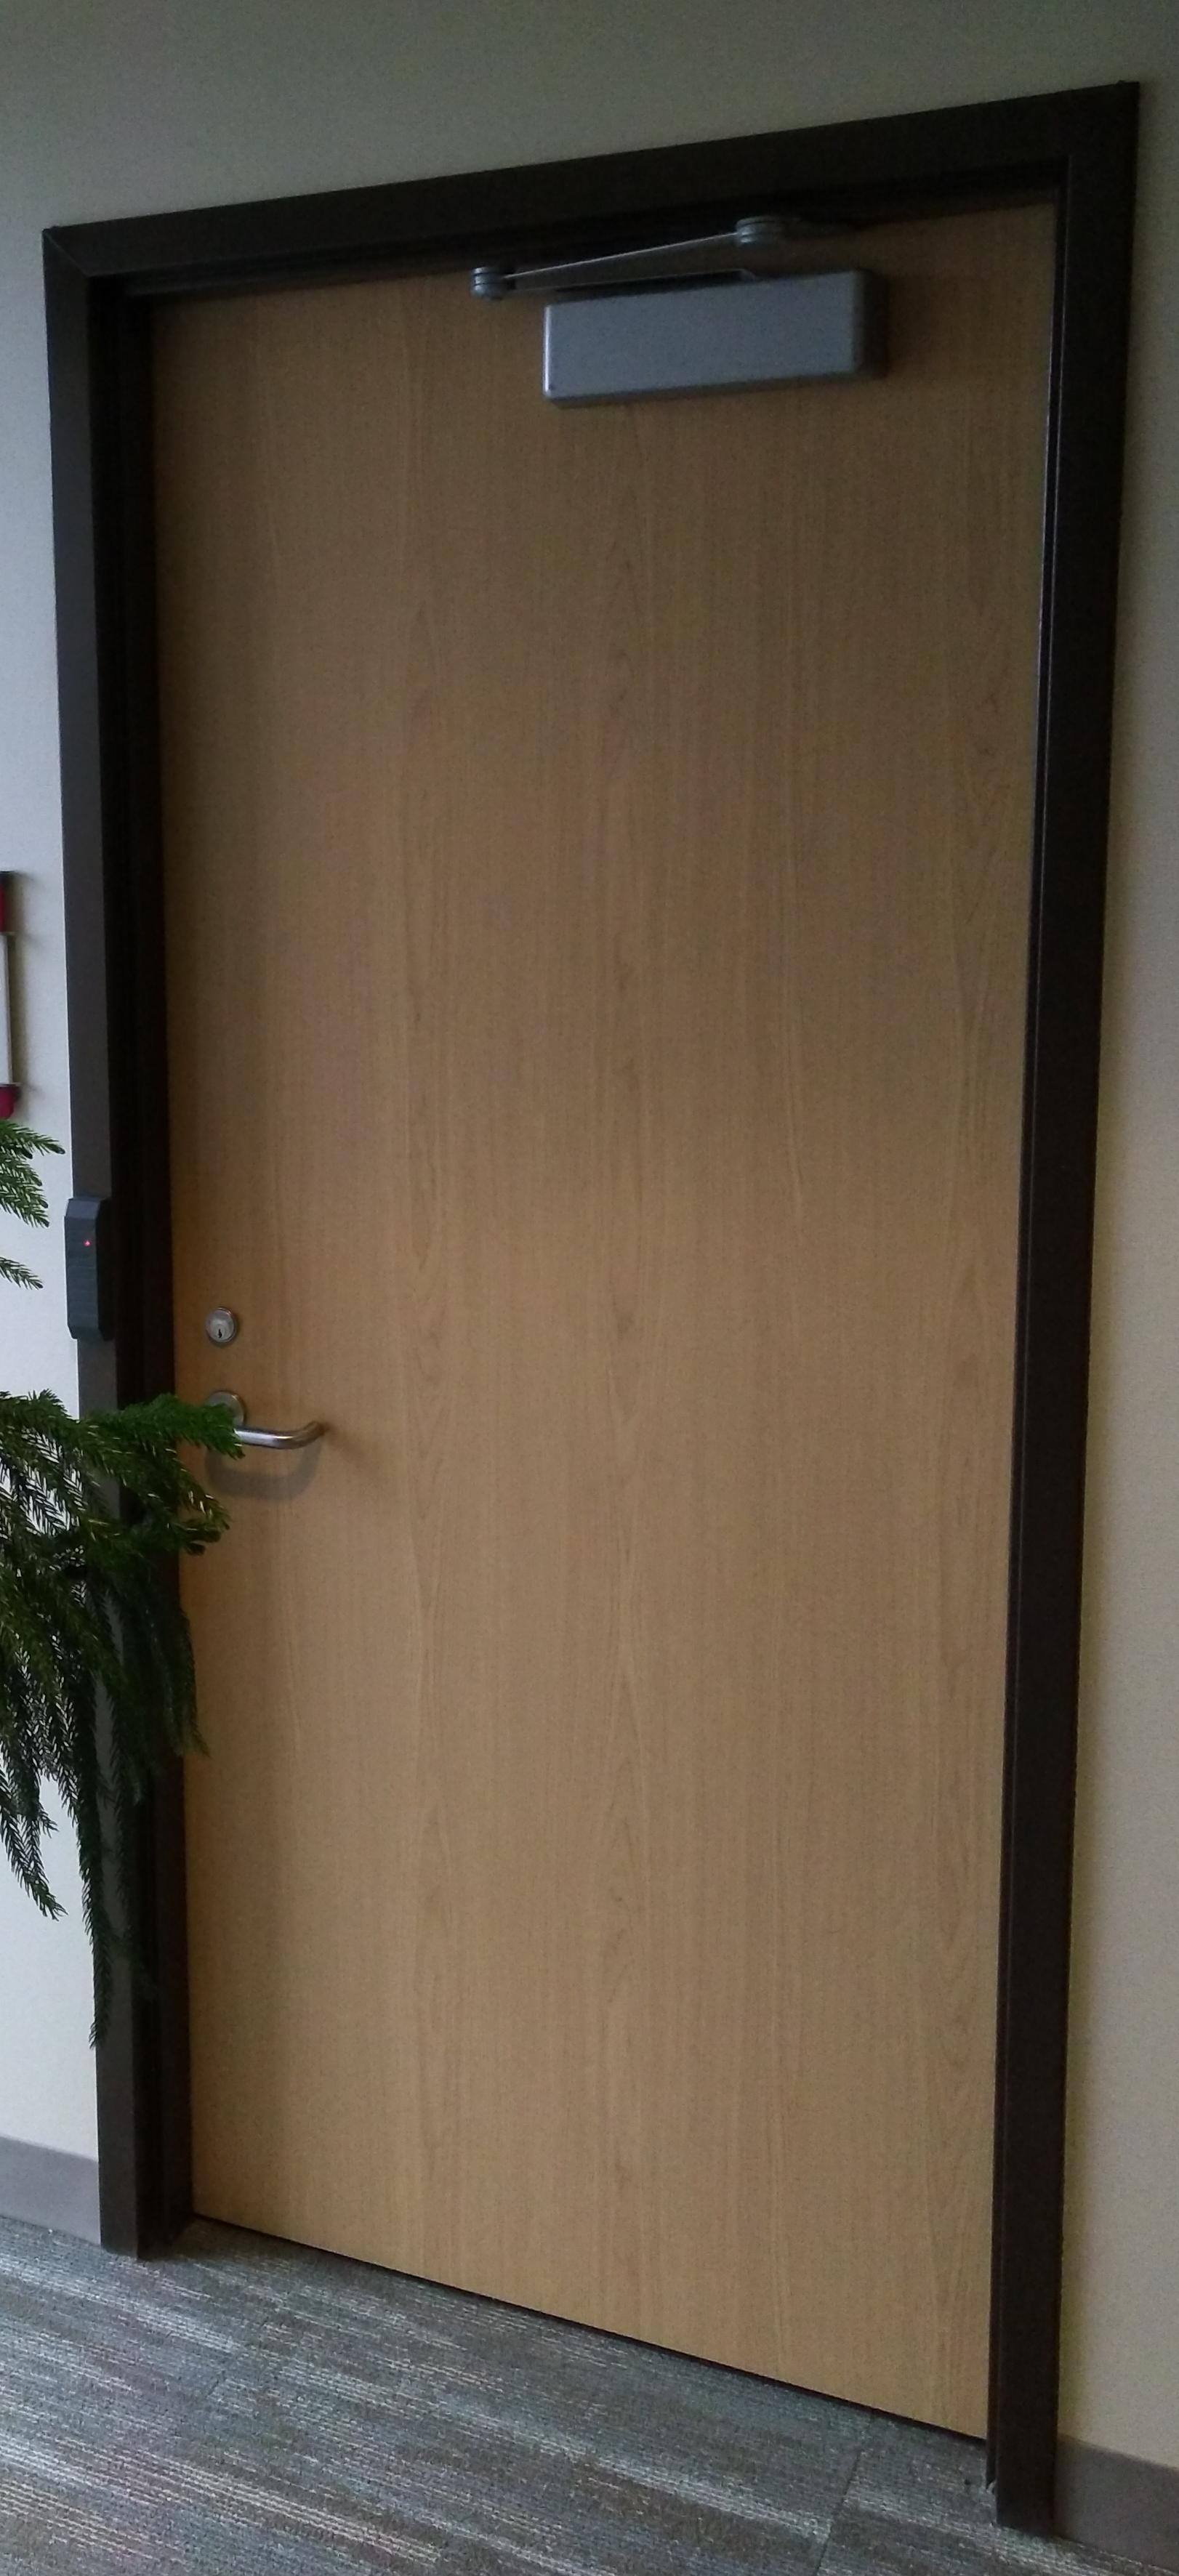door: (39, 79, 1133, 2537)
